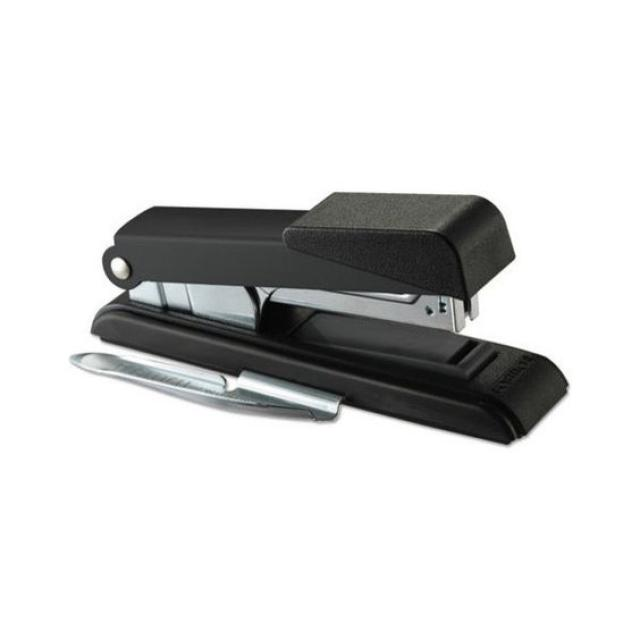Stapler: (39, 145, 614, 504)
